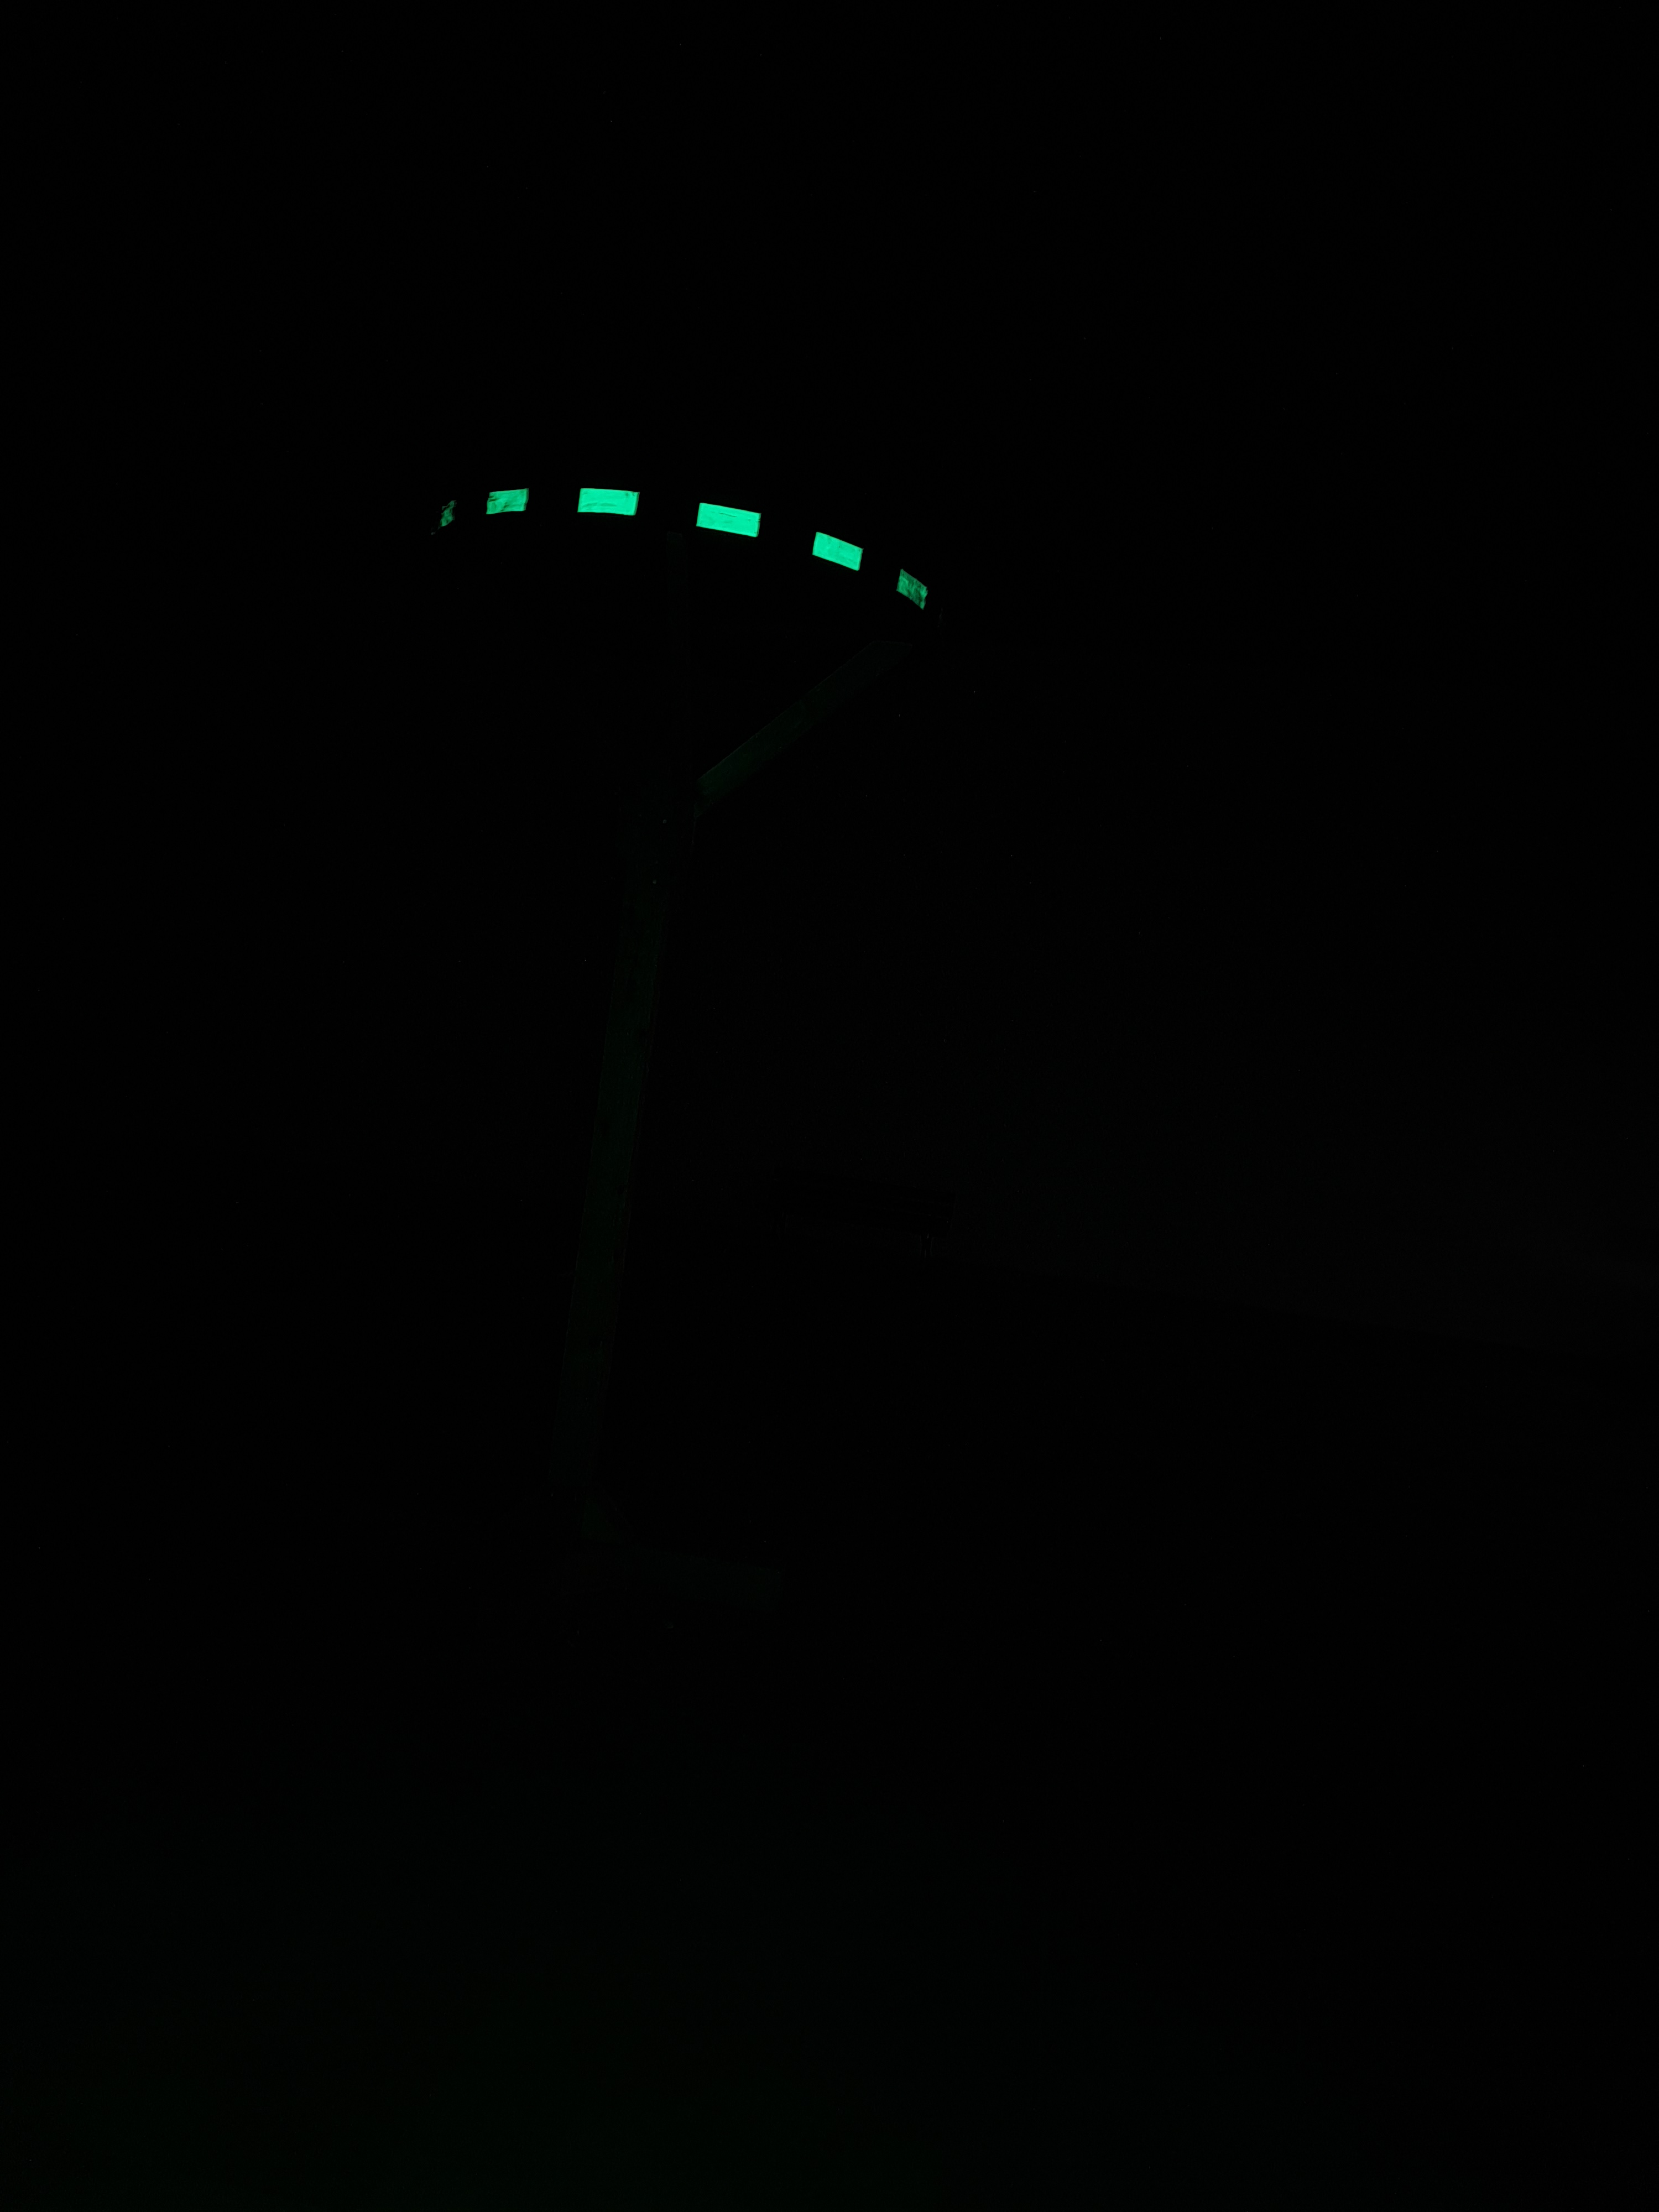hoop: (434, 481, 931, 611)
